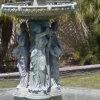Statue: (7, 3, 71, 94)
